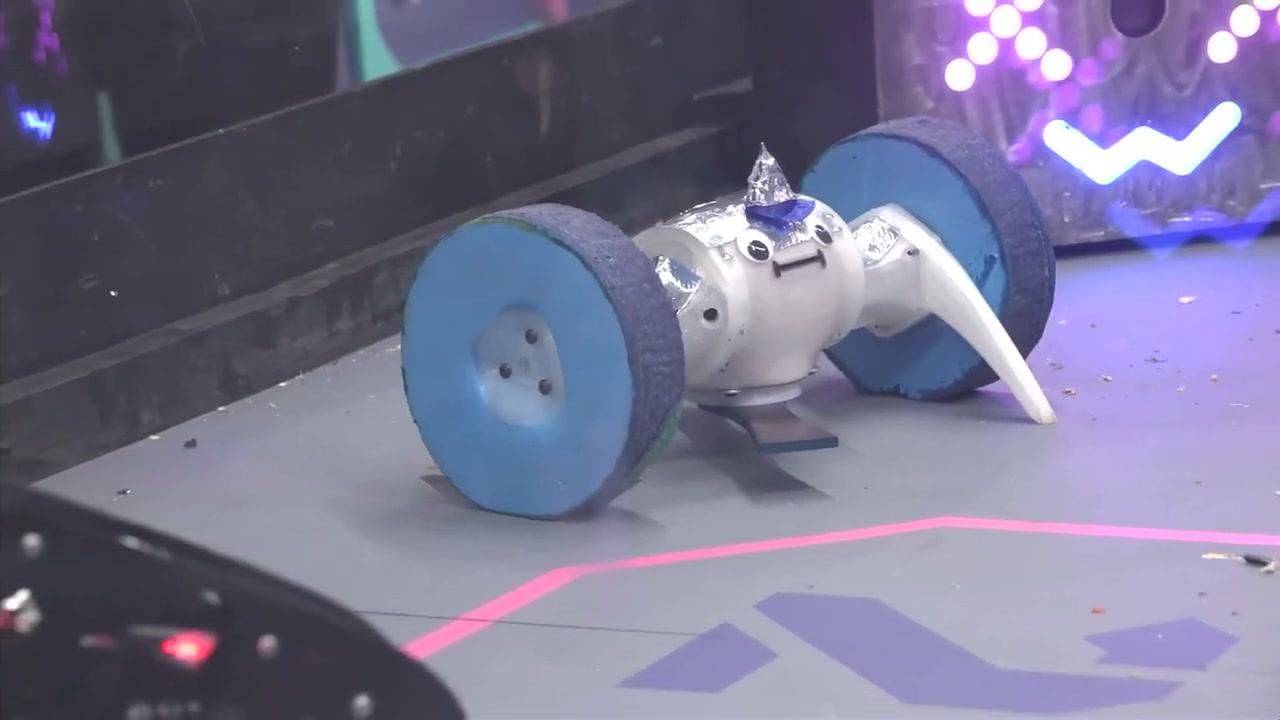combatbot: (401, 113, 1059, 519)
housebot: (746, 0, 1280, 251)
